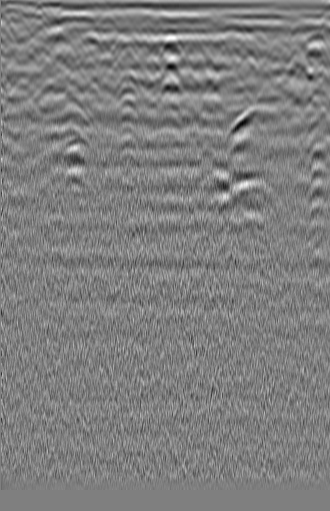가스: (55, 133, 91, 165)
상수: (301, 31, 327, 55)
오수: (0, 13, 20, 33)
우수: (158, 33, 178, 53)
